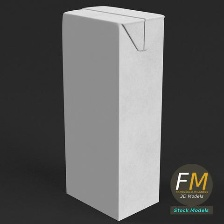carton: (55, 2, 174, 223)
